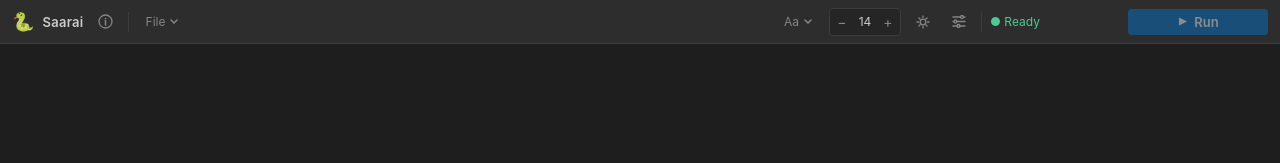
Test case: Toolbar — Save in File menu › Save item is enabled when canSave is true
The width and height of the screenshot is (1280, 163).
Click the button "File" at (162, 22), box [136,8,187,36]
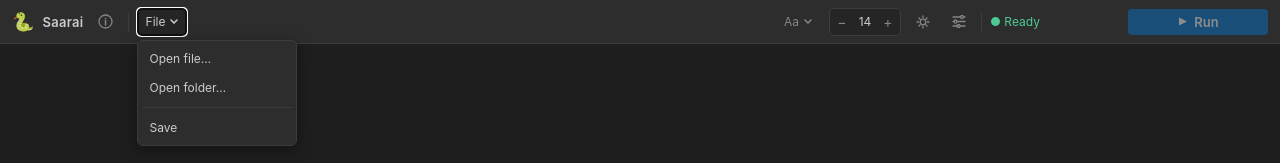
expect the menu item "Save" is enabled: met, box [142,114,292,140]
